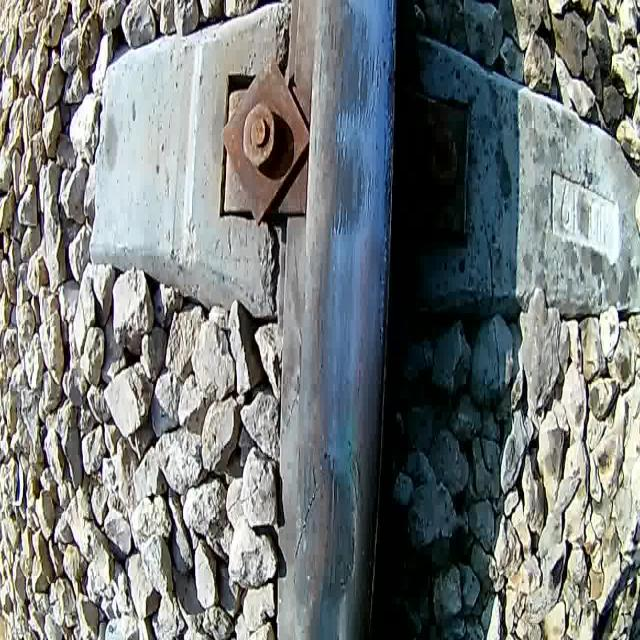Cracks: (339, 436, 364, 598), (292, 462, 318, 562)
Flakings: (381, 0, 397, 381)
Grooves: (330, 103, 360, 169), (358, 147, 380, 233), (364, 34, 382, 118), (327, 198, 352, 238)
Squats: (291, 434, 365, 614), (318, 0, 382, 124), (312, 126, 376, 245)
